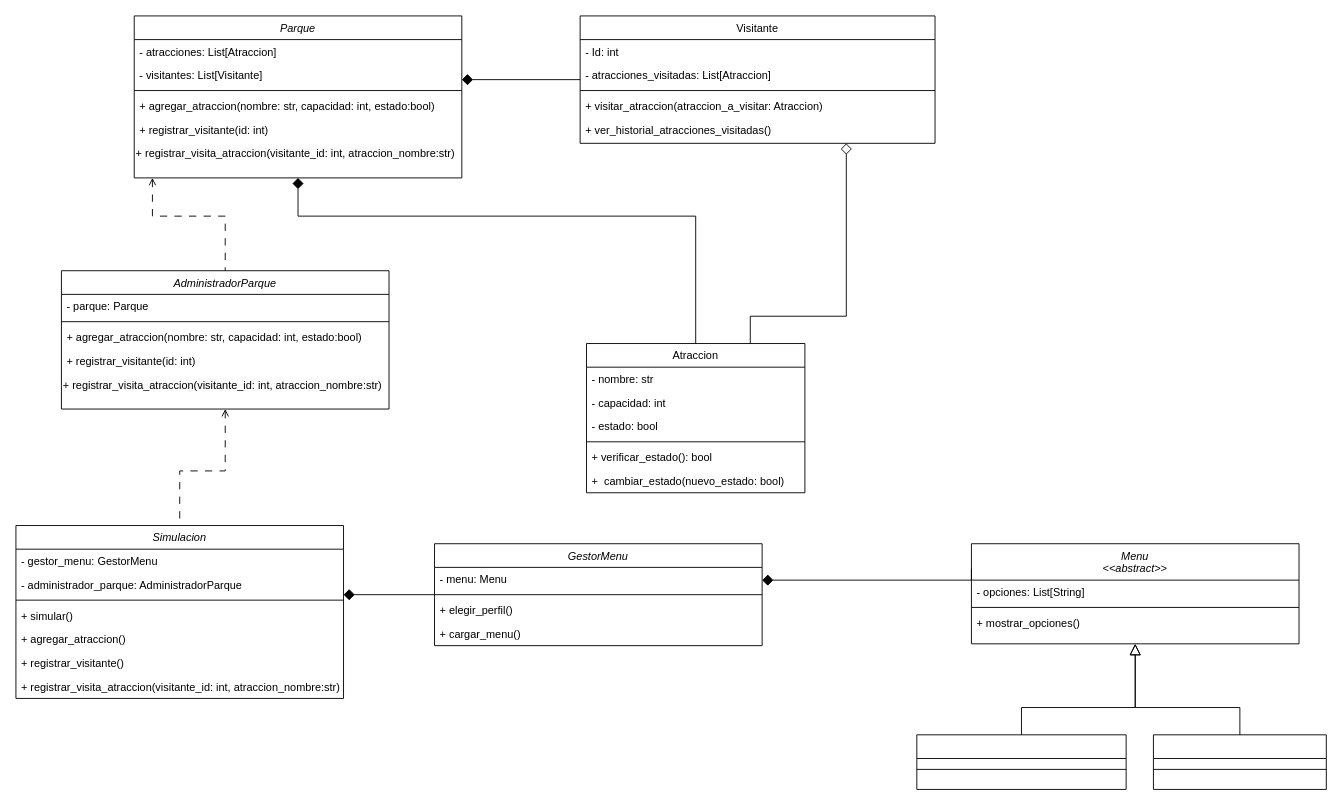
This 1342x805 diagram has some shape labels left out. Here are the shapes that lost their labels. From the top down, the centre of each, then its label:
At point (1021, 761): "MenuAdministradorParque".
At point (1239, 761): "MenuVisitante".
